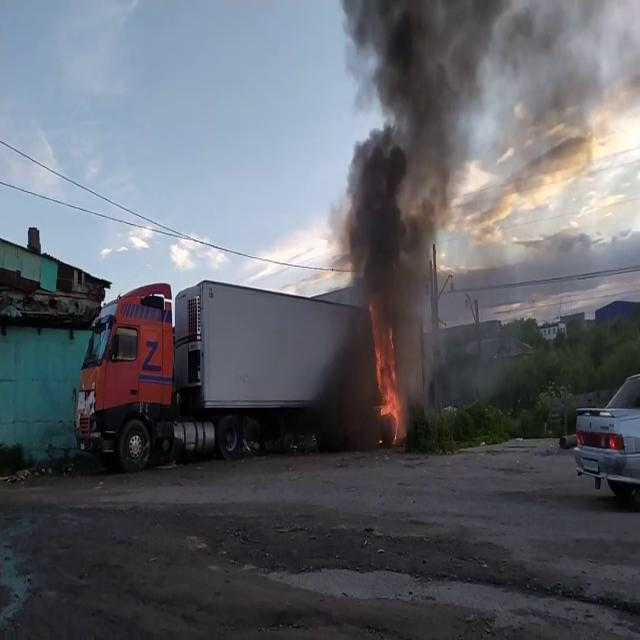Fire: (368, 308, 406, 442)
Smoke: (332, 0, 490, 304)
